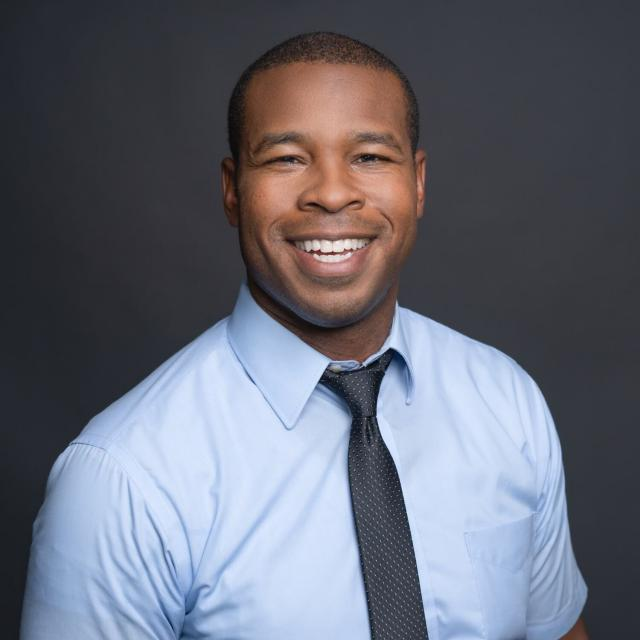nothing: (219, 20, 432, 182)
